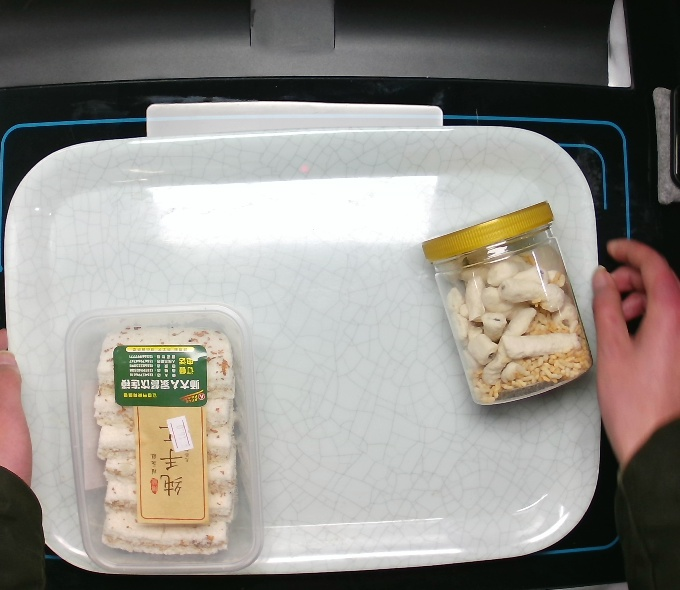wcq-GuiHuaGao: (58, 300, 270, 574)
wcq-MaiYaTang: (417, 195, 596, 411)
